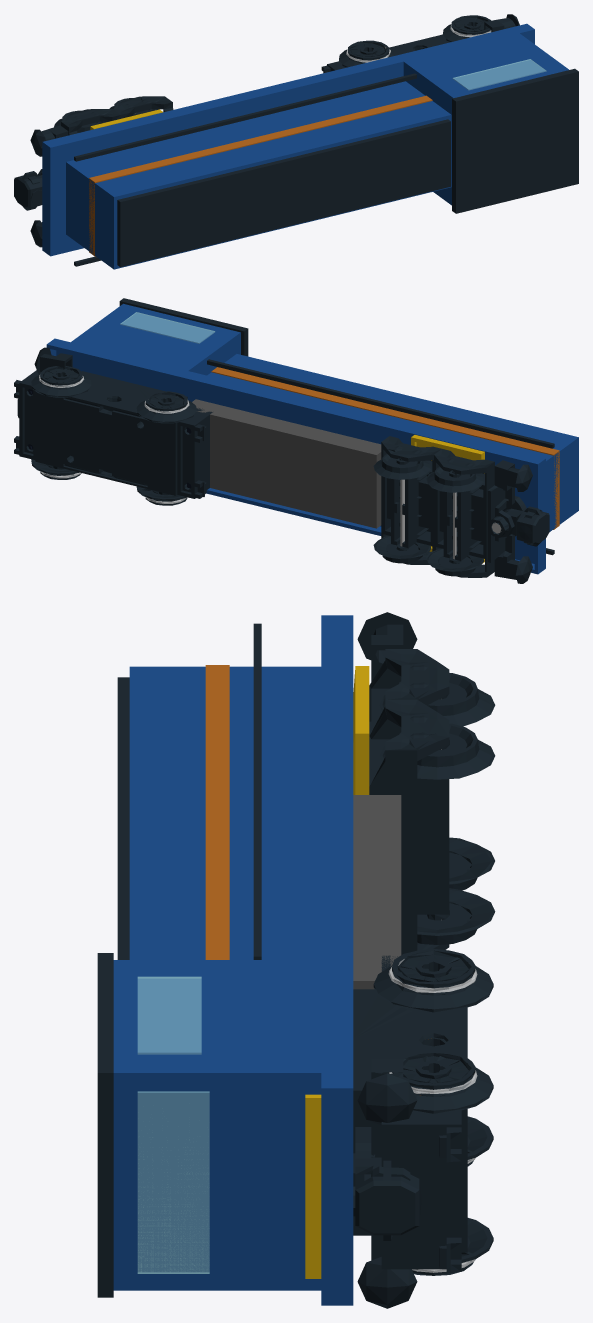
The model's file is locomotive.glb.
3 views of the same model, one above another, from view 1: azimuth 30°, elevation 25°; view 2: azimuth 150°, elevation 25°; view 3: azimuth 270°, elevation 25° (orthographic). The views are drawn at different scales.
Size of the model in its own units: 236 by 52 by 79.6.
